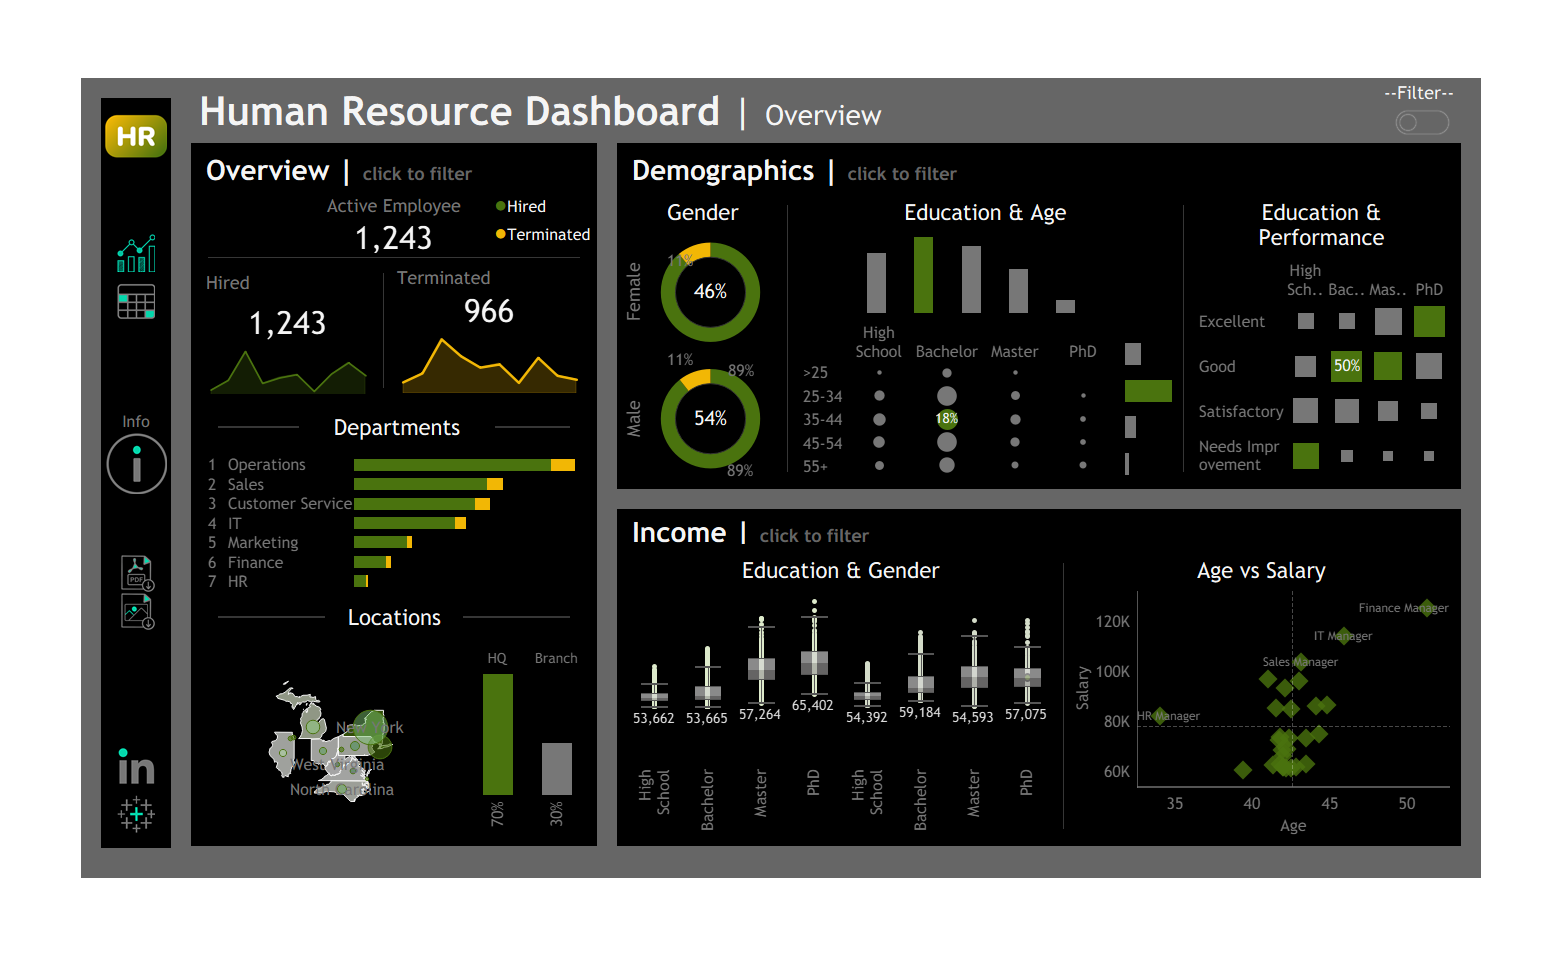

Layout of this report page (visuals, bound fields, positions):
{"tool":"tableau","page":{"name":"HR","canvas":[1400,800],"ordinal":0},"visuals":[{"type":"text","box":[110,0,823,65]},{"type":"blank","box":[933,0,447,65]},{"type":"text","box":[1299,0,100,30]},{"type":"filter","title":"Gender vs education ","param":"[federated.0q2gh4h1n235b5190az610rpepij].[none:Gender:nk]","box":[930,2,112,58]},{"type":"filter","title":"Gender vs education ","param":"[federated.0q2gh4h1n235b5190az610rpepij].[none:Calculation_1044828008271874:nk]","box":[1042,2,111,58]},{"type":"filter","title":"Gender vs education ","param":"[federated.0q2gh4h1n235b5190az610rpepij].[none:Calculation_1919764739563520:nk]","box":[1153,2,111,58]},{"type":"filter","title":"Gender vs education ","param":"[federated.0q2gh4h1n235b5190az610rpepij].[yr:Hiredate:ok]","box":[1264,2,111,58]},{"type":"image","param":"Image/croatia.png","box":[20,20,70,76]},{"type":"dashboard-object","box":[1313,23,56,44]},{"type":"text","box":[117,72,392,41]},{"type":"text","box":[543,72,830,40]},{"type":"blank","box":[20,96,70,60]},{"type":"text","box":[409,104,120,72]},{"type":"text","box":[117,113,392,29]},{"type":"text","box":[543,117,158,34]},{"type":"blank","box":[706,117,1,287]},{"type":"text","box":[712,117,385,34]},{"type":"blank","box":[1102,117,1,287]},{"type":"text","box":[1108,117,265,60]},{"type":"worksheet","title":"Total Active","mark":"Automatic","box":[117,142,392,37]},{"type":"worksheet","title":"Gender","mark":"Pie","rows":["Gender"],"cols":["Calculation_0624264881008641","Calculation_0624264881008641"],"box":[543,151,158,253]},{"type":"worksheet","title":"Total vs Age category","mark":"Bar","rows":["Calculation_1037131389304833"],"cols":["Calculation_0624264885260291"],"box":[712,151,385,88]},{"type":"dashboard-object","box":[20,156,70,38]},{"type":"worksheet","title":"Educational Background","mark":"Square","rows":["Performance Rating"],"cols":["Education Level"],"box":[1108,177,265,227]},{"type":"blank","box":[117,179,392,1]},{"type":"text","box":[117,185,180,40]},{"type":"blank","box":[302,185,1,135]},{"type":"text","box":[308,185,200.9,29]},{"type":"blank","box":[20,194,70,10]},{"type":"text","box":[89,200,1309,436]},{"type":"dashboard-object","box":[20,204,70,38]},{"type":"worksheet","title":"Total Terminated","mark":"Automatic","box":[308,214,200.9,39]},{"type":"worksheet","title":"Total Hired","mark":"Automatic","box":[117,225,180,41]},{"type":"worksheet","title":"Education","mark":"Circle","rows":["Calculation_0624264885260291"],"cols":["Education Level"],"box":[712,239,328,165]},{"type":"worksheet","title":"Total vs Education","mark":"Bar","rows":["Education Level"],"cols":["Calculation_1037131389304833"],"box":[1040,239,57,165]},{"type":"blank","box":[20,242,70,85]},{"type":"worksheet","title":"Terminated Trend","mark":"Line","rows":["Calculation_1037131389579266","Calculation_1037131389579266"],"cols":["Hiredate"],"box":[308,253,200.9,67]},{"type":"worksheet","title":"Hired Trend","mark":"Line","rows":["Calculation_1037131389304833","Calculation_1037131389304833"],"cols":["Hiredate"],"box":[117,266,180,54]},{"type":"text","box":[20,327,70,32]},{"type":"blank","box":[127,330,101,38]},{"type":"text","box":[228,330,176,38]},{"type":"blank","box":[404,330,95,38]},{"type":"dashboard-object","box":[25,348,61,75]},{"type":"blank","box":[20,359,70,107]},{"type":"worksheet","title":"Department vs Job Title","mark":"Bar","rows":["Calculation_1044828005220353","Department"],"cols":["Calculation_1037131389304833"],"box":[117,373,392,144]},{"type":"text","box":[543,438,830,32]},{"type":"text","box":[543,475,434,34]},{"type":"blank","box":[982,475,1,286]},{"type":"text","box":[988,475,385,34]},{"type":"dashboard-object","box":[30,476,50,38]},{"type":"worksheet","title":"Gender vs education ","mark":"Circle","rows":["Salary"],"cols":["Gender","Education Level"],"box":[543,509,434,252]},{"type":"worksheet","title":"Scatter plot","mark":"Shape","rows":["Salary"],"cols":["Calculation_0624264884490242"],"box":[988,509,385,252]},{"type":"dashboard-object","box":[30,514,50,38]},{"type":"blank","box":[127,522,126.7,34]},{"type":"text","box":[253.7,522,118.7,34]},{"type":"blank","box":[372.3,522,126.7,34]},{"type":"blank","box":[30,552,50,117]},{"type":"worksheet","title":"City and State","mark":"Automatic","box":[117,566,266,195]},{"type":"worksheet","title":"Headquarters","mark":"Bar","rows":["Calculation_1037131389304833"],"cols":["Calculation_1044828008271874","Calculation1"],"box":[383,566,126,195]},{"type":"blank","box":[89,636,1309,163]},{"type":"image","param":"Image/contact-linkedin.png","box":[30,669,50,38]},{"type":"image","param":"Image/contact-public.png","box":[20,717,70,38]}]}

Visuals, with their boxes on the page's 1400x800 design canvas (x1, y1, x2, y2). These are canvas units, not pixel positions in the 1566x963 screenshot, which may show the page scaled, cropped or inside an application window:
text: (110, 0, 933, 65)
blank: (933, 0, 1380, 65)
text: (1299, 0, 1399, 30)
"Gender vs education " filter: (930, 2, 1042, 60)
"Gender vs education " filter: (1042, 2, 1153, 60)
"Gender vs education " filter: (1153, 2, 1264, 60)
"Gender vs education " filter: (1264, 2, 1375, 60)
image: (20, 20, 90, 96)
dashboard-object: (1313, 23, 1369, 67)
text: (117, 72, 509, 113)
text: (543, 72, 1373, 112)
blank: (20, 96, 90, 156)
text: (409, 104, 529, 176)
text: (117, 113, 509, 142)
text: (543, 117, 701, 151)
blank: (706, 117, 707, 404)
text: (712, 117, 1097, 151)
blank: (1102, 117, 1103, 404)
text: (1108, 117, 1373, 177)
"Total Active" worksheet: (117, 142, 509, 179)
"Gender" worksheet (Pie marks): (543, 151, 701, 404)
"Total vs Age category" worksheet (Bar marks): (712, 151, 1097, 239)
dashboard-object: (20, 156, 90, 194)
"Educational Background" worksheet (Square marks): (1108, 177, 1373, 404)
blank: (117, 179, 509, 180)
text: (117, 185, 297, 225)
blank: (302, 185, 303, 320)
text: (308, 185, 509, 214)
blank: (20, 194, 90, 204)
text: (89, 200, 1398, 636)
dashboard-object: (20, 204, 90, 242)
"Total Terminated" worksheet: (308, 214, 509, 253)
"Total Hired" worksheet: (117, 225, 297, 266)
"Education" worksheet (Circle marks): (712, 239, 1040, 404)
"Total vs Education" worksheet (Bar marks): (1040, 239, 1097, 404)
blank: (20, 242, 90, 327)
"Terminated Trend" worksheet (Line marks): (308, 253, 509, 320)
"Hired Trend" worksheet (Line marks): (117, 266, 297, 320)
text: (20, 327, 90, 359)
blank: (127, 330, 228, 368)
text: (228, 330, 404, 368)
blank: (404, 330, 499, 368)
dashboard-object: (25, 348, 86, 423)
blank: (20, 359, 90, 466)
"Department vs Job Title" worksheet (Bar marks): (117, 373, 509, 517)
text: (543, 438, 1373, 470)
text: (543, 475, 977, 509)
blank: (982, 475, 983, 761)
text: (988, 475, 1373, 509)
dashboard-object: (30, 476, 80, 514)
"Gender vs education " worksheet (Circle marks): (543, 509, 977, 761)
"Scatter plot" worksheet (Shape marks): (988, 509, 1373, 761)
dashboard-object: (30, 514, 80, 552)
blank: (127, 522, 254, 556)
text: (254, 522, 372, 556)
blank: (372, 522, 499, 556)
blank: (30, 552, 80, 669)
"City and State" worksheet: (117, 566, 383, 761)
"Headquarters" worksheet (Bar marks): (383, 566, 509, 761)
blank: (89, 636, 1398, 799)
image: (30, 669, 80, 707)
image: (20, 717, 90, 755)
